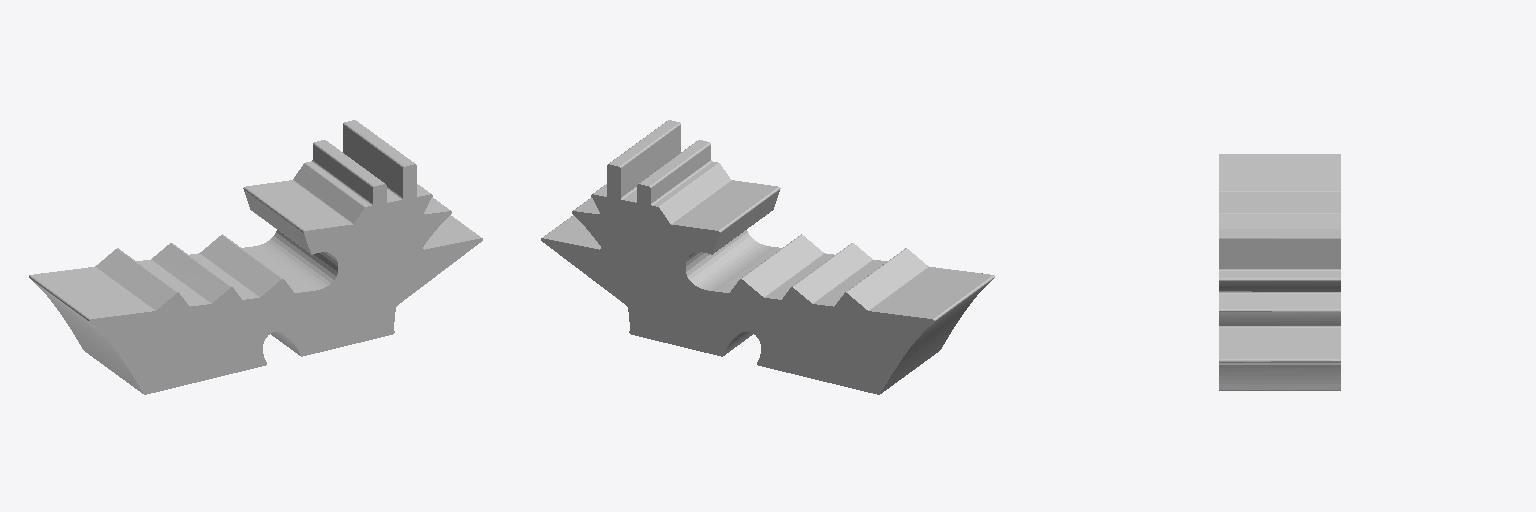
The model's file is ship.obj.
3 renders of one model, left to right at view 1: azimuth 30°, elevation 25°; view 2: azimuth 150°, elevation 25°; view 3: azimuth 270°, elevation 25°, orthographic.
Visible parts, largest first — view 1: Curve_Curve.002; view 2: Curve_Curve.002; view 3: Curve_Curve.002.
Part boxes in pixels (bbox=[...]): Curve_Curve.002: bbox=[29, 120, 482, 394]; Curve_Curve.002: bbox=[541, 120, 994, 394]; Curve_Curve.002: bbox=[1219, 154, 1340, 390].
Size of the model in its own units: 3 by 1.2 by 0.8.